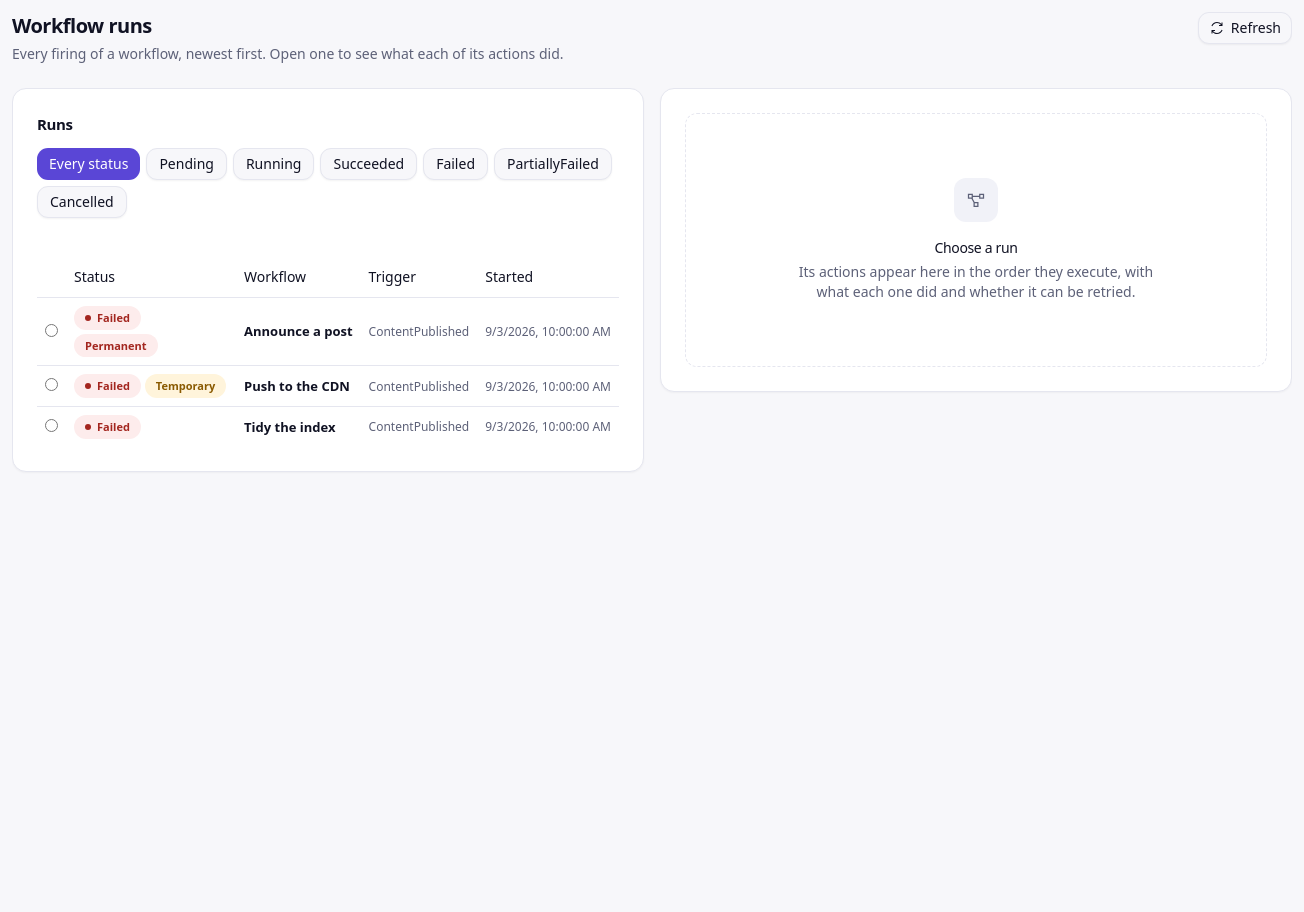
Test: the workflow runs screen and the kind of a failure › labels each failed action from its own retryable, and leaves the one without it bare
What coordinates should you click on to do the following:
click the radio button named "Announce a post"
I would click on:
 (52, 330)
Its box is [45,324,58,337].
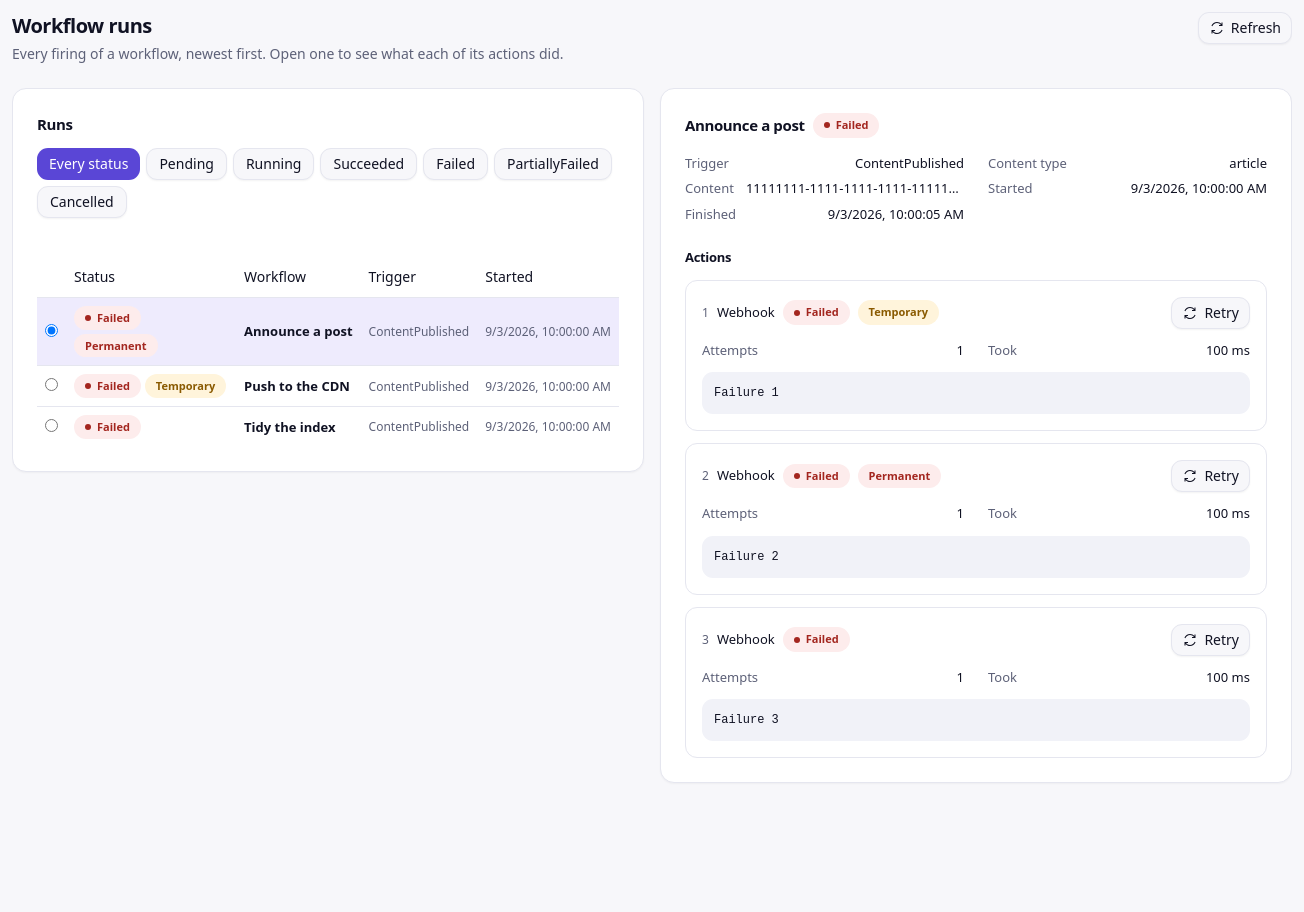
Expected: the number of list items is 3, [685,280,1267,431]; [685,443,1267,594]; [685,606,1267,758]
Expected: the text "Temporary" below "Finished" is shown, [869,304,928,319]
Expected: the text "Permanent" below "Failure 1" is shown, [869,468,930,483]
